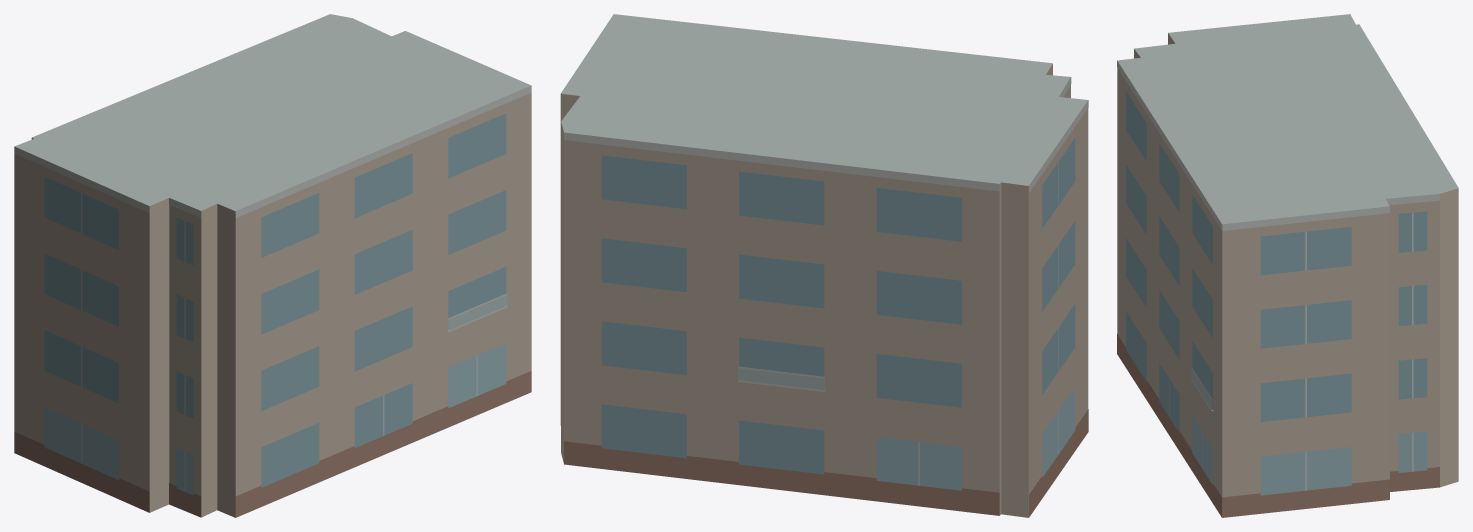
File: survey-upis-32665167.glb
The picture shows the model from 3 angles, left to right: view 1: azimuth 30°, elevation 25°; view 2: azimuth 150°, elevation 25°; view 3: azimuth 270°, elevation 25°; orthographic projection. The views are drawn at different scales.
Parts seen in each view (by area): view 1: survey-upis-32665167.tmp; view 2: survey-upis-32665167.tmp; view 3: survey-upis-32665167.tmp.
Boxes of the visible parts, left/top/right/bottom form: survey-upis-32665167.tmp: left=14, top=14, right=531, bottom=517; survey-upis-32665167.tmp: left=560, top=14, right=1088, bottom=517; survey-upis-32665167.tmp: left=1117, top=14, right=1458, bottom=517.
Size of the model in its own units: 16.46 by 10.7 by 11.3.
